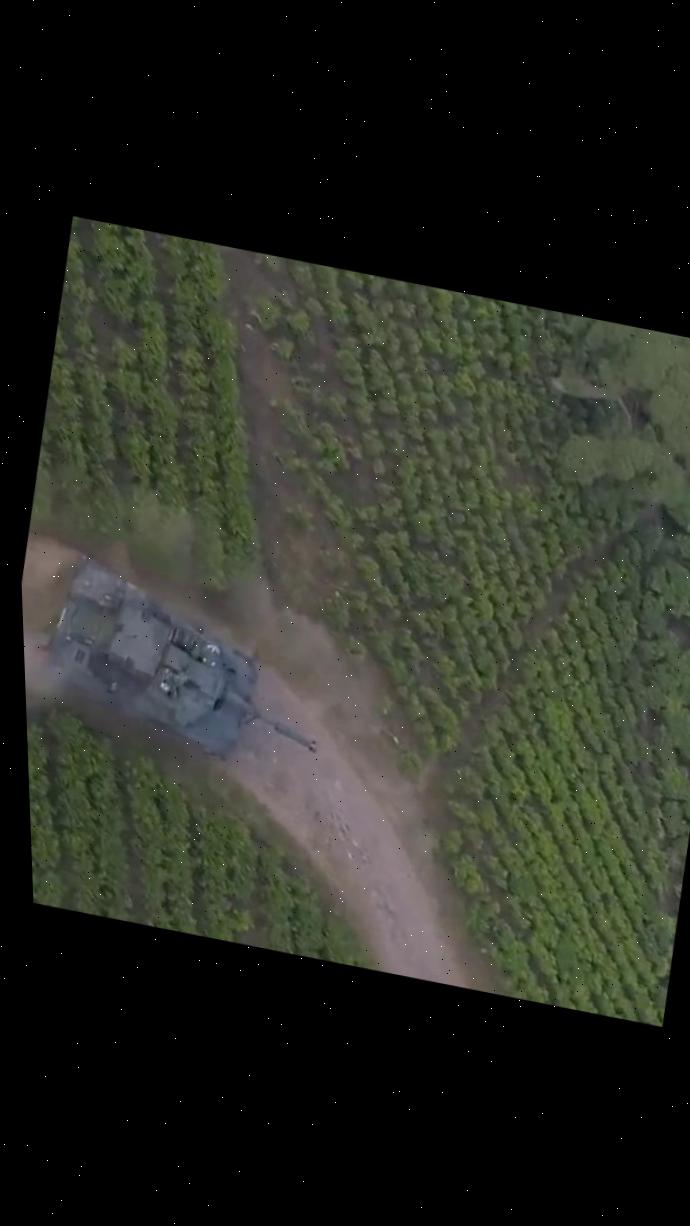tank: (20, 546, 346, 782)
